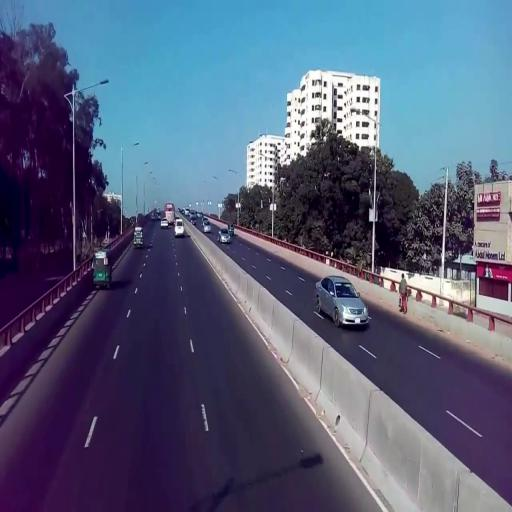bus: (165, 203, 175, 225)
car: (315, 273, 371, 333)
minivan: (175, 217, 186, 241)
three wheelers (CNG): (91, 248, 114, 293), (133, 224, 146, 251), (228, 222, 235, 238)
